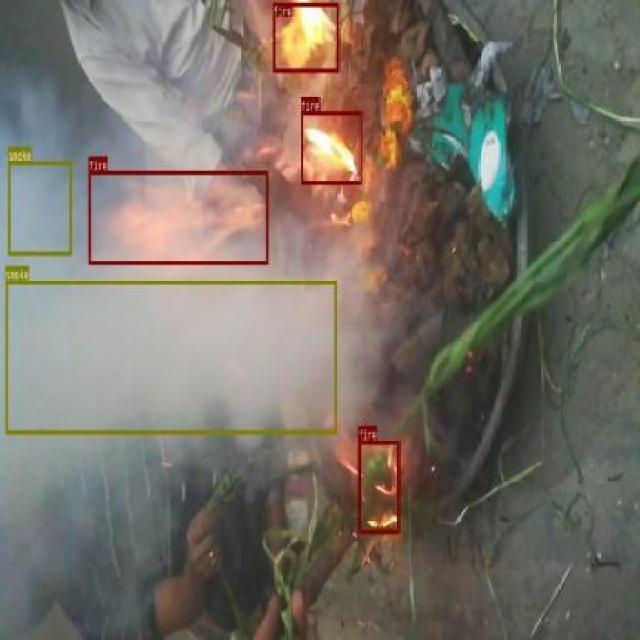Smoke: (0, 311, 272, 401), (7, 154, 71, 248)
